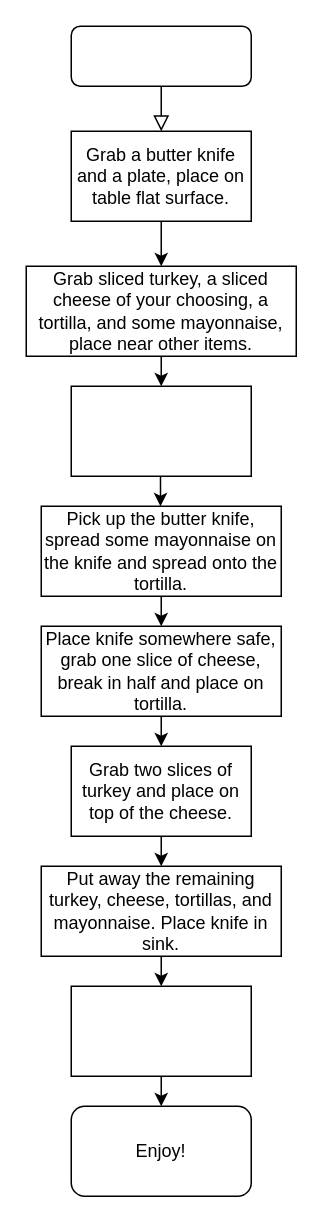
Image size: 323x1223. Some labels were removed from this diagram. Here are the shapes that lost their labels. From the top down, the centre of each, then its label:
point 160,55: Create a turkey warp
point 160,430: Place a tortilla on the plate.
point 160,1030: Grab both ends of the tortilla and fold them towards the turkey.
